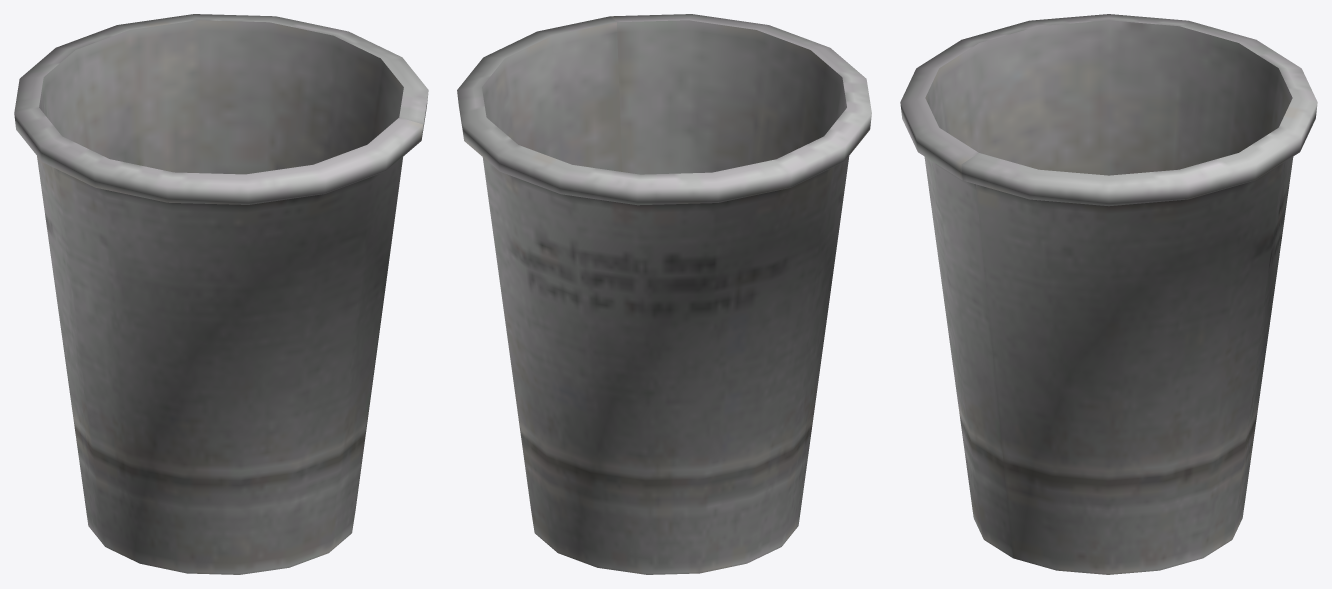
The model's file is plastic_cup.dae.
The picture shows the model from 3 angles, left to right: view 1: azimuth 30°, elevation 25°; view 2: azimuth 150°, elevation 25°; view 3: azimuth 270°, elevation 25°; orthographic projection.
Visible parts, largest first — view 1: plastic_glass; view 2: plastic_glass; view 3: plastic_glass.
Boxes of the visible parts, left/top/right/bottom form: plastic_glass: left=14, top=14, right=428, bottom=574; plastic_glass: left=457, top=14, right=871, bottom=574; plastic_glass: left=900, top=14, right=1317, bottom=574.
Bounding box in the file's own units: 0.1978 × 0.2198 × 0.1978.
